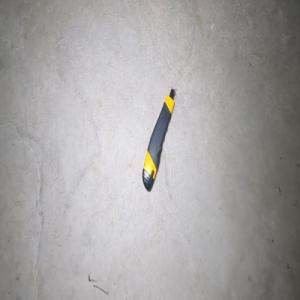Cutter: (141, 87, 176, 191)
